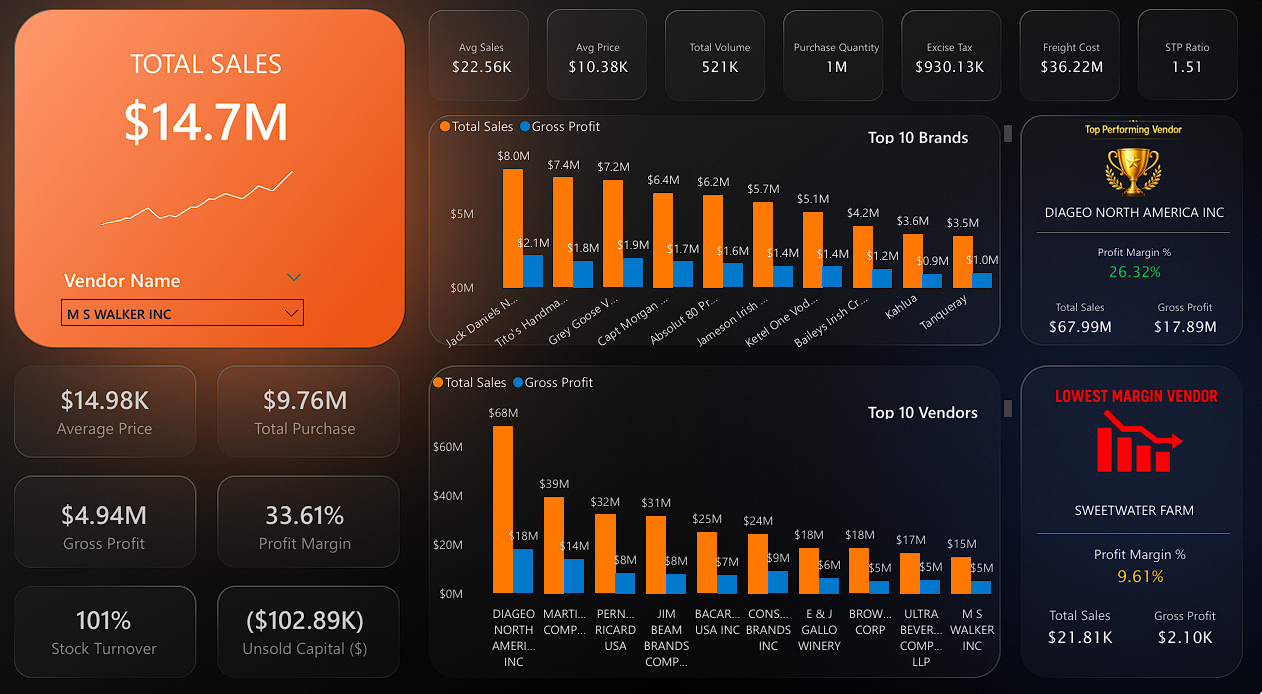

The page's visual inventory and layout, read from the dashboard file:
{"tool":"powerbi","page":{"name":"Page 2","canvas":[1280,720],"ordinal":0},"visuals":[{"type":"cardVisual","fields":{"Data":["Avg(vendor_sales_summary.TotalPurchaseDollars)"]},"box":[36.4,376.9,156.4,95.1],"z":0},{"type":"cardVisual","fields":{"Data":["Sum(vendor_sales_summary.TotalPurchaseDollars)"]},"box":[223.1,376.9,184,95.1],"z":1000},{"type":"cardVisual","fields":{"Data":["vendor_sales_summary.Gross Profit"]},"box":[22.2,491.6,184,95.1],"z":2000},{"type":"cardVisual","fields":{"Data":["vendor_sales_summary.Profit Margin"]},"box":[223.1,491.6,184,95.1],"z":3000},{"type":"cardVisual","fields":{"Data":["vendor_sales_summary.Stock Turnover"]},"box":[15.1,597.3,198.2,95.1],"z":4000},{"type":"cardVisual","fields":{"Data":["Sum(vendor_sales_summary.UnsoldCapital)"]},"box":[216,597.3,198.2,95.1],"z":5000},{"type":"clusteredColumnChart","title":"Top 10 Vendors","fields":{"Y":["Sum(Top10_Vendors_Table.Total Sales)","Sum(Top10_Vendors_Table.Gross Profit)"],"Category":["Top10_Vendors_Table.VendorName"]},"box":[437.3,376.9,591.1,315.6],"z":6000},{"type":"textbox","box":[872.9,410.7,155.6,28.4],"z":7000},{"type":"clusteredColumnChart","fields":{"Category":["Top10_Brands_Table.Description"],"Y":["Sum(Top10_Brands_Table.Total Sales)","Sum(Top10_Brands_Table.Gross Profit)"]},"box":[443.6,120.9,584.9,256],"z":8000},{"type":"textbox","box":[872.9,136,155.6,28.4],"z":9000},{"type":"group","id":"g1","title":"Group 1","box":[1035.6,208.9,216,147.6],"z":10000},{"type":"cardVisual","fields":{"Data":["Top10_Vendors_Table.Top Vendor Name"]},"box":[1036.5,208.9,215.1,32],"z":10000,"group":"g1"},{"type":"cardVisual","fields":{"Data":["Low10_Vendors_Table.Worst Vendor Name"]},"box":[1036.5,505.8,215.1,35.5],"z":10000,"group":"g2"},{"type":"image","box":[1040.9,128,205.3,88.9],"z":11000},{"type":"cardVisual","fields":{"Data":["Top10_Vendors_Table.Top Vendor Sales"]},"box":[1035.6,308.5,107.6,48],"z":11000,"group":"g1"},{"type":"cardVisual","fields":{"Data":["Low10_Vendors_Table.Worst Vendor Sales"]},"box":[1035.6,616.2,107.6,53.2],"z":11000,"group":"g2"},{"type":"cardVisual","fields":{"Data":["vendor_sales_summary.Sales to Purchase Ratio"]},"box":[1143.1,24.9,108.4,96],"z":12000},{"type":"cardVisual","fields":{"Data":["Top10_Vendors_Table.Top Vendor Margin"]},"box":[1082.2,253.4,123.6,48],"z":12000,"group":"g1"},{"type":"cardVisual","fields":{"Data":["Low10_Vendors_Table.Worst Vendor Margin"]},"box":[1082.2,555.8,134.2,52.4],"z":12000,"group":"g2"},{"type":"cardVisual","fields":{"Data":["Top10_Vendors_Table.Top Vendor Gross Profit"]},"box":[1144,308.5,101.3,48],"z":13000,"group":"g1"},{"type":"group","id":"g2","title":"Group 1","box":[1035.6,505.8,216,163.6],"z":13000},{"type":"cardVisual","fields":{"Data":["Low10_Vendors_Table.Worst Vendor Gross Profit"]},"box":[1144,616.2,101.3,53.2],"z":13000,"group":"g2"},{"type":"shape","box":[1046.3,240.9,192.9,13.3],"z":14000,"group":"g1"},{"type":"image","box":[1035.6,376.9,216.9,153.8],"z":14000},{"type":"shape","box":[1046.3,541.3,192.9,14.8],"z":14000,"group":"g2"},{"type":"cardVisual","fields":{"Data":["vendor_sales_summary.AVG_SALES_DOLARS"]},"box":[437.3,24.9,108.4,96],"z":15000},{"type":"slicer","fields":{"Values":["vendor_sales_summary.VendorName"]},"box":[61.3,277.3,262.2,76.4],"z":16000},{"type":"cardVisual","fields":{"Data":["Sum(vendor_sales_summary.TotalSalesDollars)"]},"box":[19.6,16.9,392,192],"z":17000},{"type":"cardVisual","fields":{"Data":["Sum(vendor_sales_summary.Volume)"]},"box":[675.6,24.9,108.4,96],"z":18000},{"type":"cardVisual","fields":{"Data":["Sum(vendor_sales_summary.TotalPurchaseQuantity)"]},"box":[784,24.9,125.3,96],"z":19000},{"type":"cardVisual","fields":{"Data":["Sum(vendor_sales_summary.TotalExciseTax)"]},"box":[896.9,24.9,125.3,96],"z":20000},{"type":"cardVisual","fields":{"Data":["Avg(vendor_sales_summary.TotalSalesPrice)"]},"box":[553.8,24.9,108.4,96],"z":21000},{"type":"cardVisual","fields":{"Data":["Sum(vendor_sales_summary.FreightCost)"]},"box":[1018.7,24.9,125.3,96],"z":22000},{"type":"image","box":[0,136,407.1,172.4],"z":23000}]}

Visuals, with their boxes in screenshot pixels (x1, y1, x2, y2), scaled from the page's 1280x720 canvas onto the 1262x694 screenshot:
cardVisual - Avg(vendor_sales_summary.TotalPurchaseDollars): <bbox>36, 363, 190, 455</bbox>
cardVisual - Sum(vendor_sales_summary.TotalPurchaseDollars): <bbox>220, 363, 401, 455</bbox>
cardVisual - vendor_sales_summary.Gross Profit: <bbox>22, 474, 203, 566</bbox>
cardVisual - vendor_sales_summary.Profit Margin: <bbox>220, 474, 401, 566</bbox>
cardVisual - vendor_sales_summary.Stock Turnover: <bbox>15, 576, 210, 667</bbox>
cardVisual - Sum(vendor_sales_summary.UnsoldCapital): <bbox>213, 576, 408, 667</bbox>
"Top 10 Vendors" clusteredColumnChart: <bbox>431, 363, 1014, 667</bbox>
textbox: <bbox>861, 396, 1014, 423</bbox>
clusteredColumnChart - Top10_Brands_Table.Description x Sum(Top10_Brands_Table.Total Sales): <bbox>437, 117, 1014, 363</bbox>
textbox: <bbox>861, 131, 1014, 158</bbox>
"Group 1" group: <bbox>1021, 201, 1234, 344</bbox>
cardVisual - Top10_Vendors_Table.Top Vendor Name: <bbox>1022, 201, 1234, 232</bbox>
cardVisual - Low10_Vendors_Table.Worst Vendor Name: <bbox>1022, 488, 1234, 522</bbox>
image: <bbox>1026, 123, 1229, 209</bbox>
cardVisual - Top10_Vendors_Table.Top Vendor Sales: <bbox>1021, 297, 1127, 344</bbox>
cardVisual - Low10_Vendors_Table.Worst Vendor Sales: <bbox>1021, 594, 1127, 645</bbox>
cardVisual - vendor_sales_summary.Sales to Purchase Ratio: <bbox>1127, 24, 1234, 117</bbox>
cardVisual - Top10_Vendors_Table.Top Vendor Margin: <bbox>1067, 244, 1189, 291</bbox>
cardVisual - Low10_Vendors_Table.Worst Vendor Margin: <bbox>1067, 536, 1199, 586</bbox>
cardVisual - Top10_Vendors_Table.Top Vendor Gross Profit: <bbox>1128, 297, 1228, 344</bbox>
"Group 1" group: <bbox>1021, 488, 1234, 645</bbox>
cardVisual - Low10_Vendors_Table.Worst Vendor Gross Profit: <bbox>1128, 594, 1228, 645</bbox>
shape: <bbox>1032, 232, 1222, 245</bbox>
image: <bbox>1021, 363, 1235, 512</bbox>
shape: <bbox>1032, 522, 1222, 536</bbox>
cardVisual - vendor_sales_summary.AVG_SALES_DOLARS: <bbox>431, 24, 538, 117</bbox>
slicer - vendor_sales_summary.VendorName: <bbox>60, 267, 319, 341</bbox>
cardVisual - Sum(vendor_sales_summary.TotalSalesDollars): <bbox>19, 16, 406, 201</bbox>
cardVisual - Sum(vendor_sales_summary.Volume): <bbox>666, 24, 773, 117</bbox>
cardVisual - Sum(vendor_sales_summary.TotalPurchaseQuantity): <bbox>773, 24, 897, 117</bbox>
cardVisual - Sum(vendor_sales_summary.TotalExciseTax): <bbox>884, 24, 1008, 117</bbox>
cardVisual - Avg(vendor_sales_summary.TotalSalesPrice): <bbox>546, 24, 653, 117</bbox>
cardVisual - Sum(vendor_sales_summary.FreightCost): <bbox>1004, 24, 1128, 117</bbox>
image: <bbox>0, 131, 401, 297</bbox>
